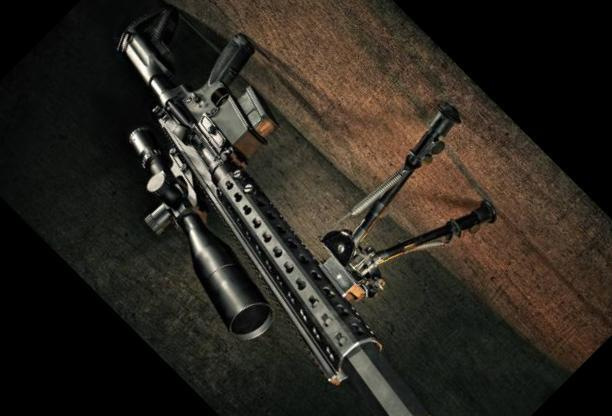larga: (112, 9, 497, 416)
